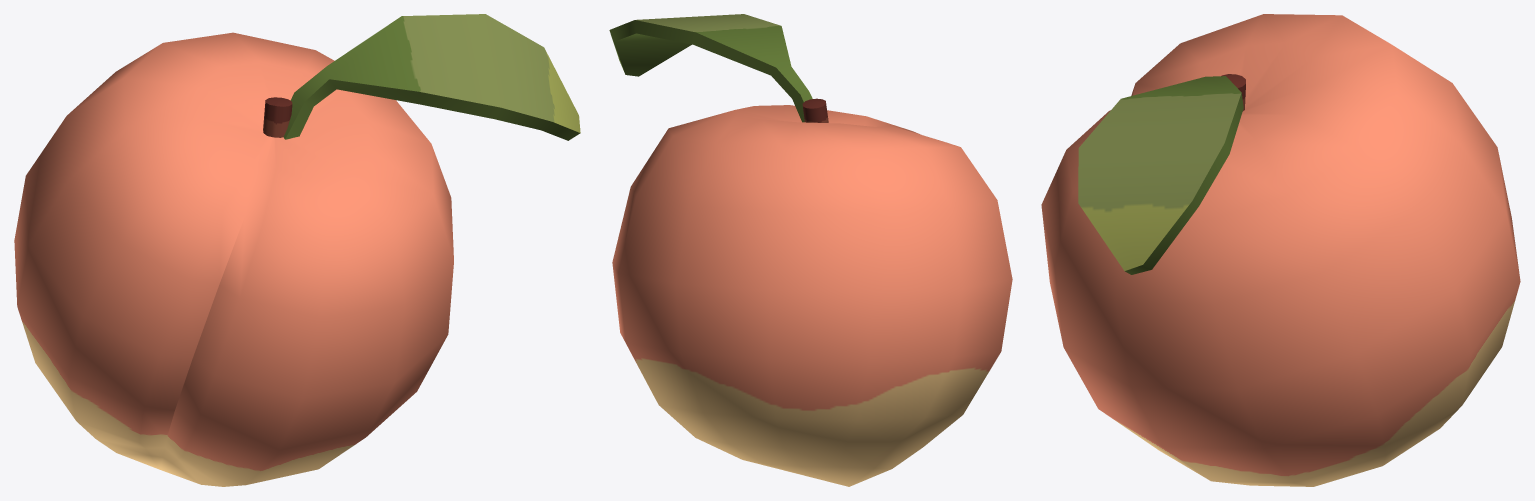
File: peach.fbx
3 renders of one model, left to right at view 1: azimuth 30°, elevation 25°; view 2: azimuth 150°, elevation 25°; view 3: azimuth 270°, elevation 25°, orthographic. The views are drawn at different scales.
Parts seen in each view (by area): view 1: peach; view 2: peach; view 3: peach.
Boxes of the visible parts, x1,y1,x2,y2 form: peach: (14,14,580,486); peach: (609,14,1012,486); peach: (1041,14,1520,486).
Bounding box in the file's own units: 3.35 × 2.94 × 2.78.
1 material, 1 textured.
